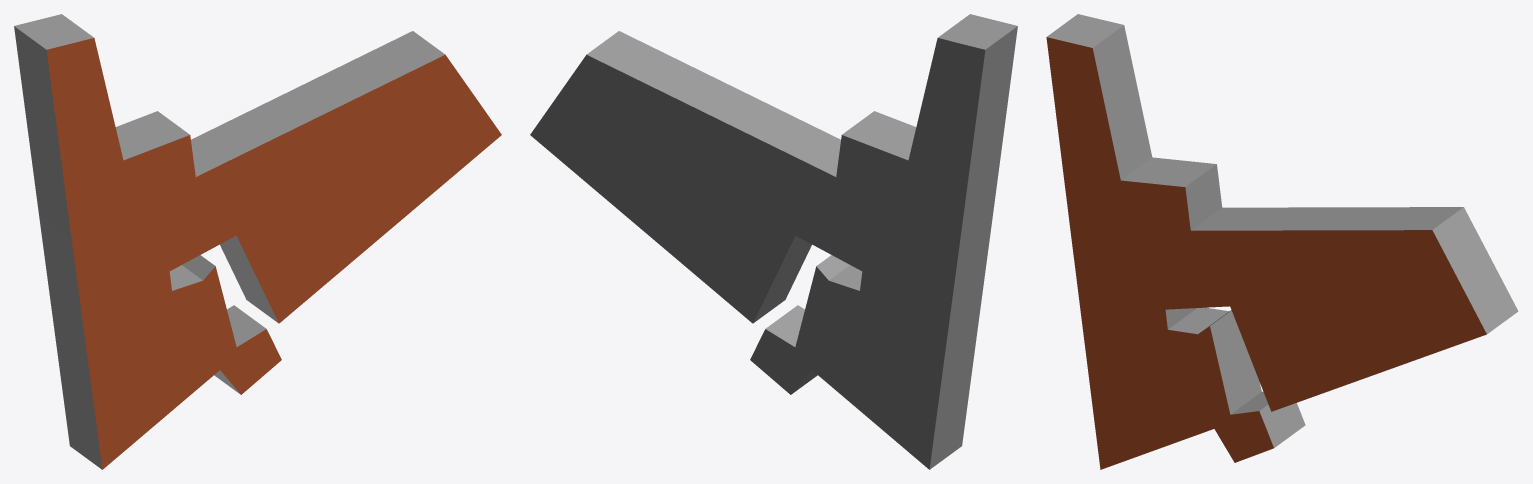
The model's file is construction_6981_assumed_A_Casa_h6m.obj.
3 views of the same model, side by side, from view 1: azimuth 30°, elevation 25°; view 2: azimuth 150°, elevation 25°; view 3: azimuth 330°, elevation 25° (orthographic). The views are drawn at different scales.
Parts seen in each view (by area): view 1: construction_6981_assumed_A_Casa; view 2: construction_6981_assumed_A_Casa; view 3: construction_6981_assumed_A_Casa.
Part boxes in pixels (<box>): construction_6981_assumed_A_Casa: <box>14,14,501,469</box>; construction_6981_assumed_A_Casa: <box>530,14,1017,469</box>; construction_6981_assumed_A_Casa: <box>1046,14,1518,469</box>.
Bounding box in the file's own units: 48.43 × 44.11 × 6.
